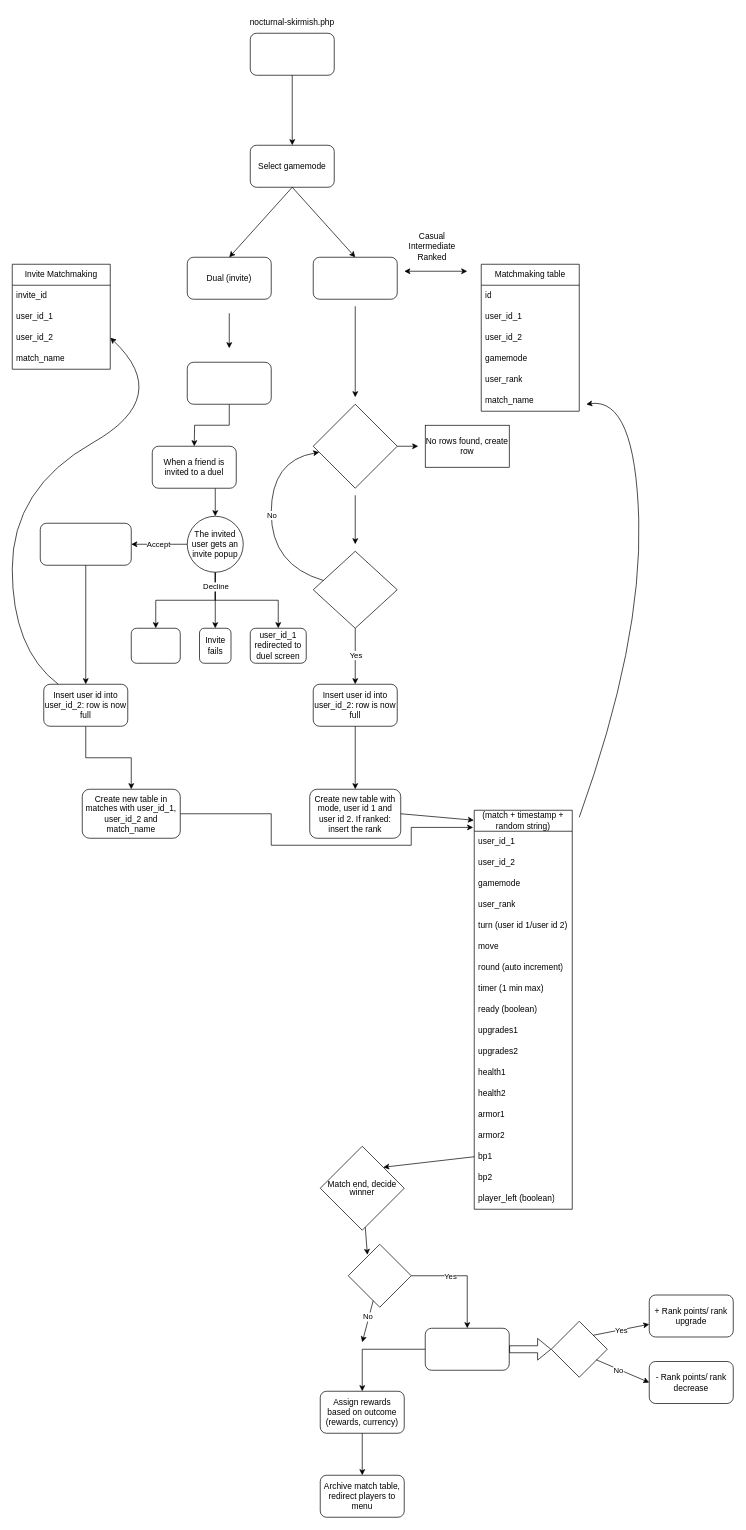
Some shapes in this 746 by 1530 pixel diagram are drawn without their labels. Each missing label, with the centre of its shape:
"Algorithm based matchmaking" goes at (355,278).
"Assign rank and points based on outcome" goes at (467,1349).
"Does the row match selected gamemode? (and rank)" goes at (355,589).
"For each empty user_id_2 row" goes at (355,446).
"If ranked:" goes at (379,1275).
"If user_id = winner" goes at (579,1349).
"Popup gets removed" goes at (155,645).
"Show modal with list of online friends to invite" goes at (229,383).
"user_id_2 gets redirected to the duel matchmaking screen" goes at (85,544).
"When play button is pressed" goes at (292,54).
